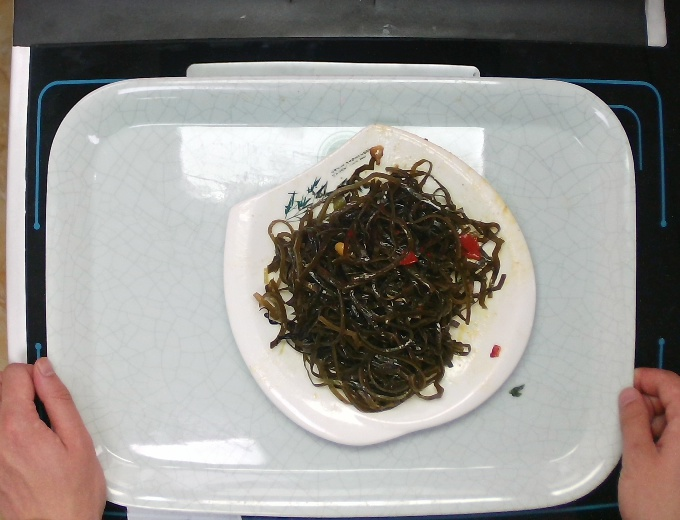JYsf-Mian_Pan: (210, 119, 541, 456)
